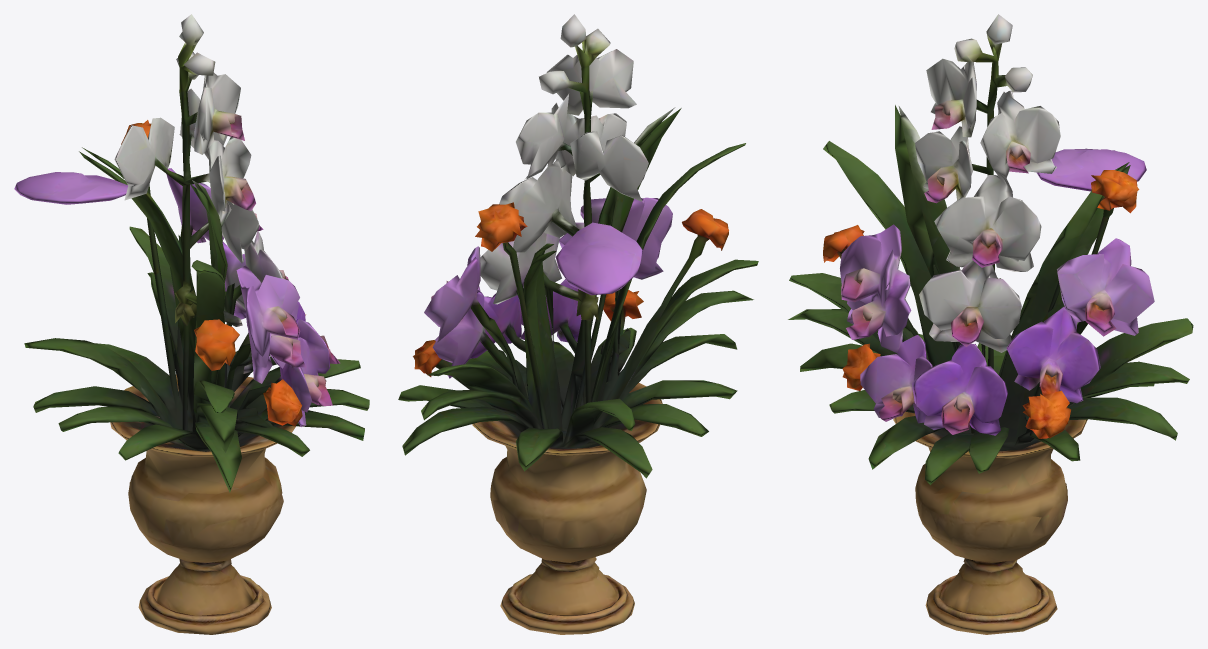
File: vase.glb
The picture shows the model from 3 angles, left to right: view 1: azimuth 30°, elevation 25°; view 2: azimuth 150°, elevation 25°; view 3: azimuth 270°, elevation 25°; orthographic projection.
Visible parts, largest first — view 1: tripo_node_1e6d3396-6205-4466-8654-cf31031d1d6d; view 2: tripo_node_1e6d3396-6205-4466-8654-cf31031d1d6d; view 3: tripo_node_1e6d3396-6205-4466-8654-cf31031d1d6d.
Boxes of the visible parts, box(x1,y1,x2,y2) form: tripo_node_1e6d3396-6205-4466-8654-cf31031d1d6d: box(14, 14, 369, 634); tripo_node_1e6d3396-6205-4466-8654-cf31031d1d6d: box(398, 14, 758, 634); tripo_node_1e6d3396-6205-4466-8654-cf31031d1d6d: box(788, 14, 1193, 634).
Bounding box in the file's own units: 0.5153 × 1 × 0.6258.
1 material, 1 textured.
